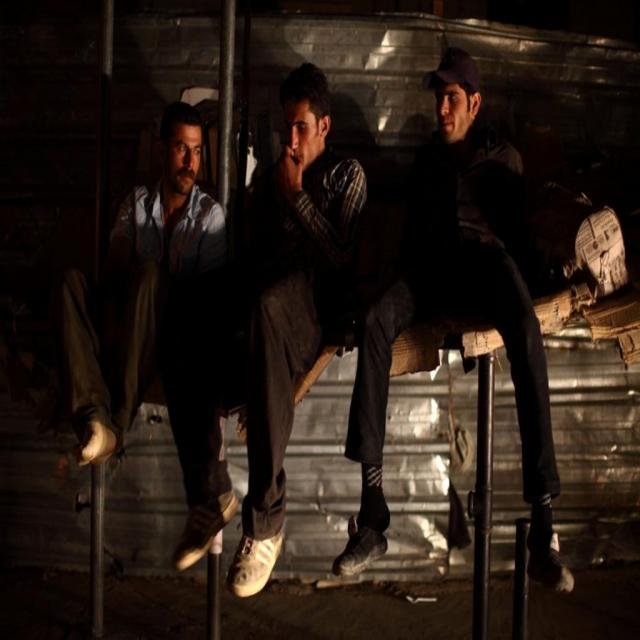nomask: (282, 101, 318, 167), (168, 125, 200, 194), (434, 82, 468, 144)
